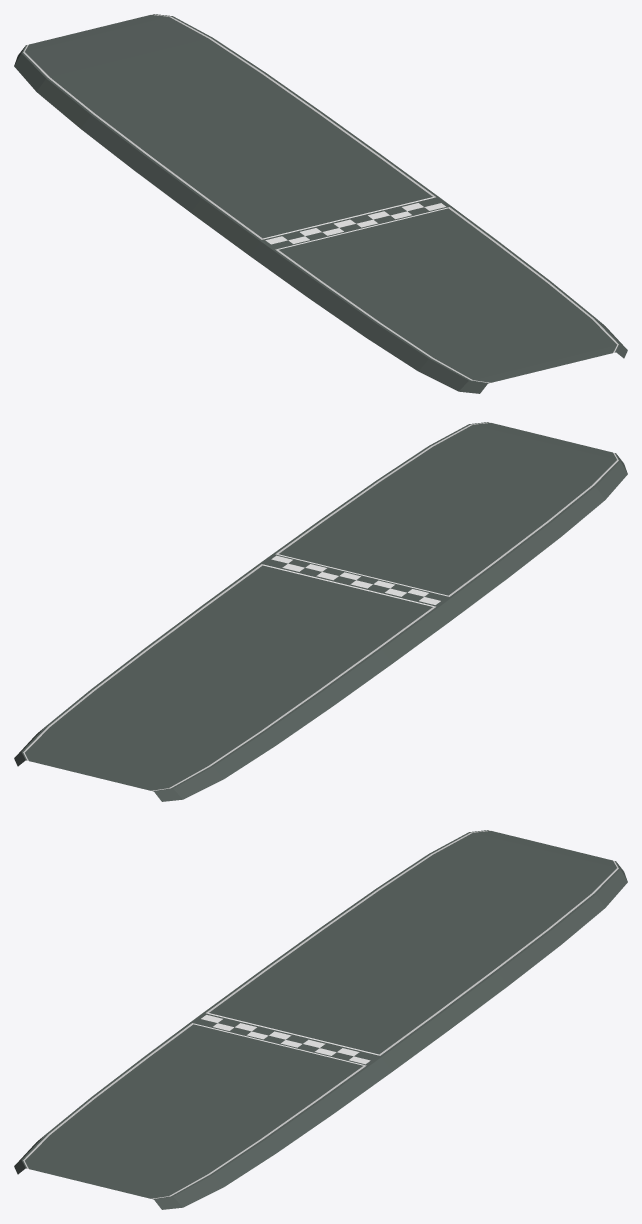
File: Straight_Startline_XL.fbx
The picture shows the model from 3 angles, top to bottom: view 1: azimuth 30°, elevation 25°; view 2: azimuth 150°, elevation 25°; view 3: azimuth 330°, elevation 25°; orthographic projection.
Visible parts, largest first — view 1: Plane; view 2: Plane; view 3: Plane.
Part boxes in pixels (x1,y1,x2,y2): Plane: [14, 14, 627, 393]; Plane: [14, 422, 627, 801]; Plane: [14, 830, 627, 1209].
Bounding box in the file's own units: 25.2 × 1.4 × 100.
